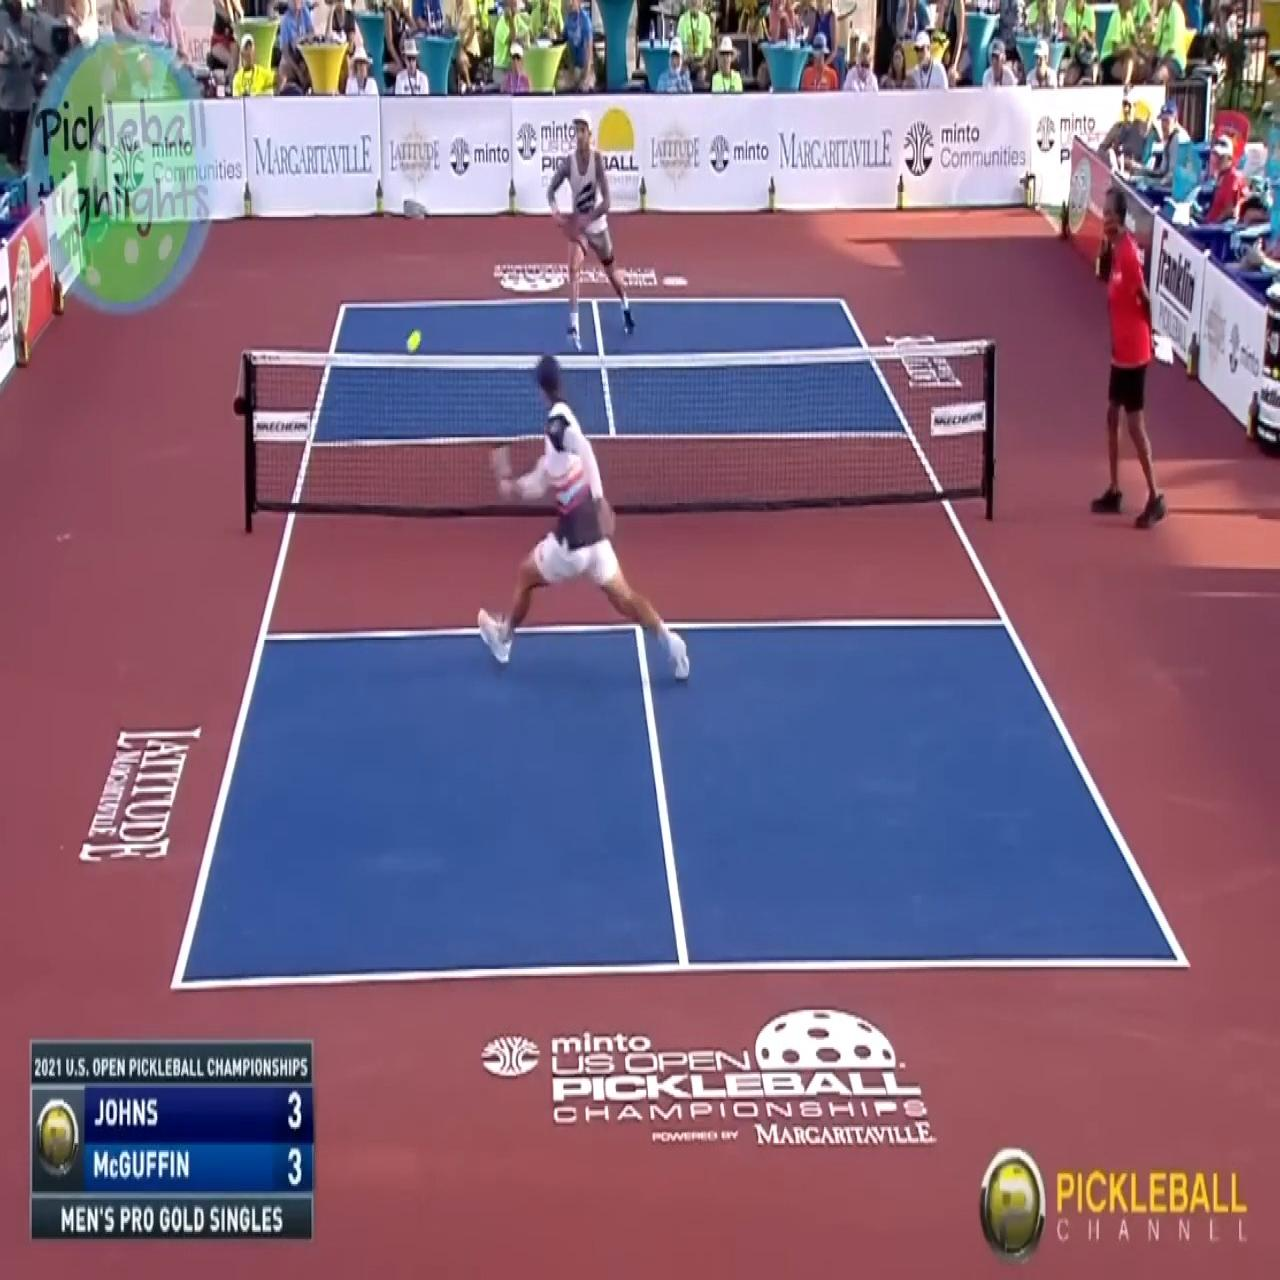pickleball: (407, 329, 421, 352)
